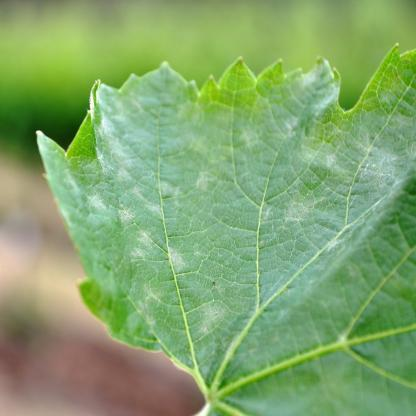Squash Powdery mildew leaf: (38, 30, 416, 401)
